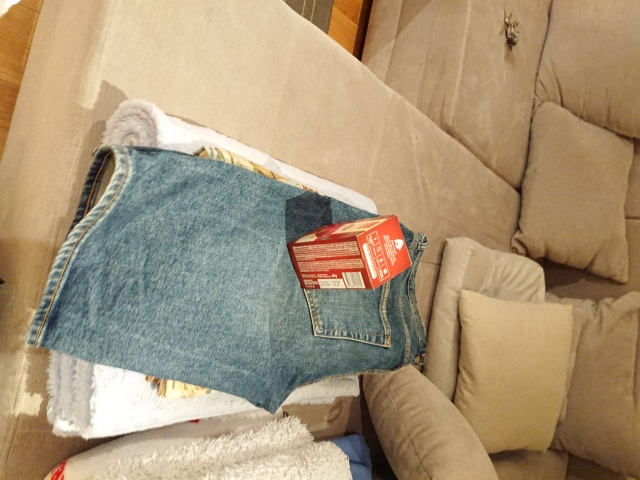Franck Apple Cinnamon Tea 60g: (283, 211, 416, 292)
